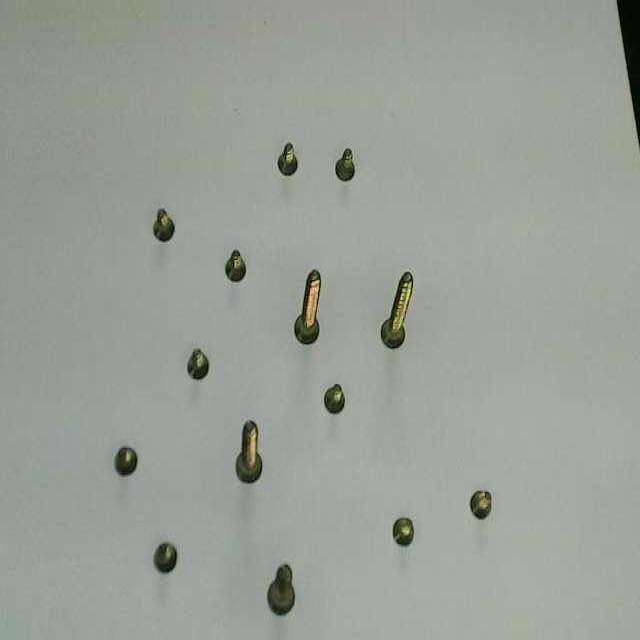Parafuso: (381, 272, 412, 347), (294, 270, 320, 343), (236, 422, 261, 482), (267, 564, 294, 614), (154, 542, 177, 573), (114, 446, 137, 475), (153, 210, 174, 241), (277, 143, 297, 175), (335, 148, 354, 181), (225, 250, 245, 281), (187, 350, 208, 379), (470, 491, 491, 519), (324, 384, 344, 413), (393, 518, 413, 546)
